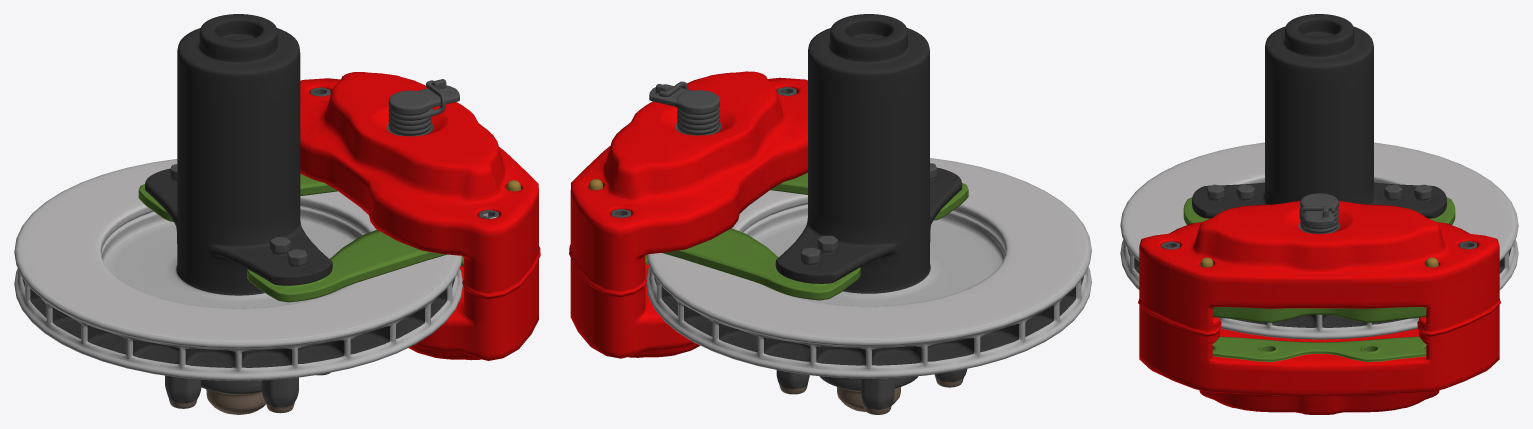
File: 13482_Brake_Rotor_v1_L2.obj
The picture shows the model from 3 angles, left to right: view 1: azimuth 30°, elevation 25°; view 2: azimuth 150°, elevation 25°; view 3: azimuth 270°, elevation 25°; orthographic projection. The views are drawn at different scales.
Visible parts, largest first — view 1: brake_rotor_body; view 2: brake_rotor_body; view 3: brake_rotor_body.
Boxes of the visible parts, box(x1,y1,x2,y2) form: brake_rotor_body: box(14, 14, 540, 414); brake_rotor_body: box(569, 14, 1091, 414); brake_rotor_body: box(1120, 14, 1518, 414).
Size of the model in its own units: 11.48 by 9.56 by 10.18.
Materials: 1 (1 with a texture image).
